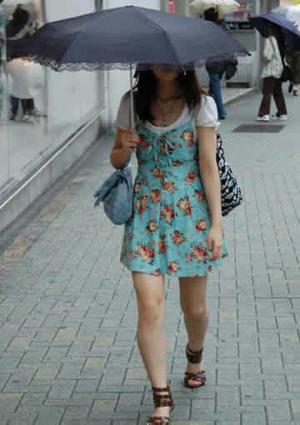person: (110, 60, 228, 423)
